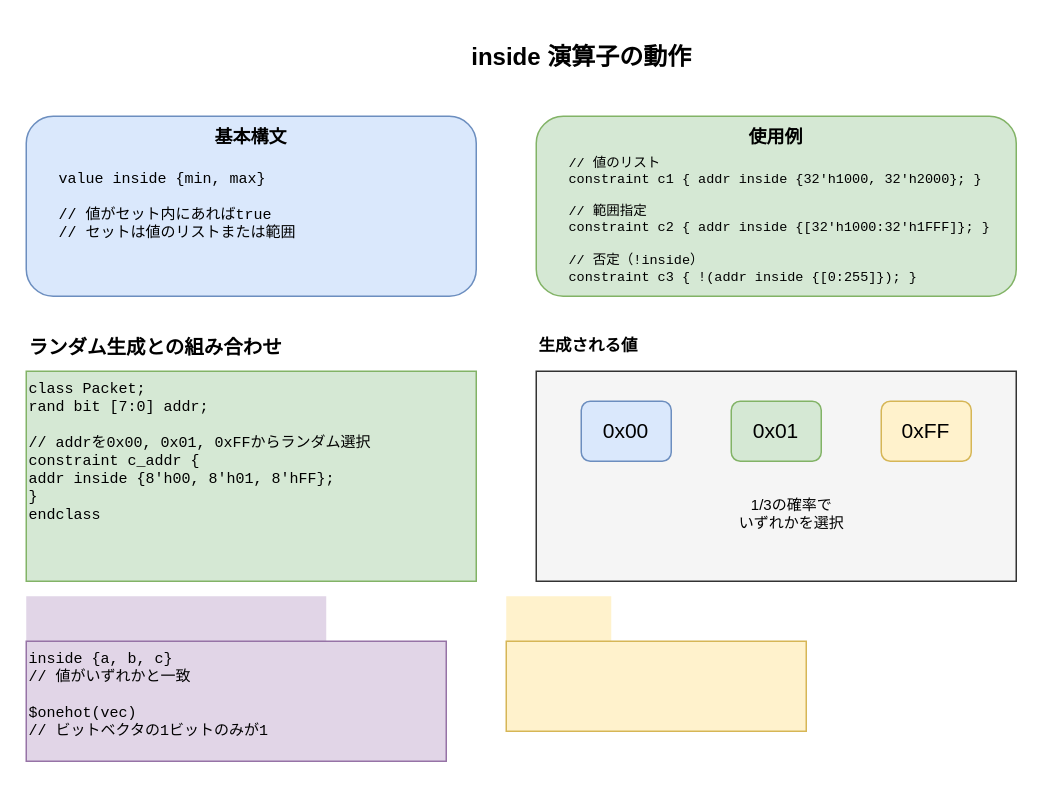
This 1043x788 diagram has some shape labels left out. Here are the shapes that lost their labels. From the top down, the centre of each, then its label:
At pixel 176 618: "$onehot/$onehot0との比較".
At pixel 558 618: "メリット".
At pixel 655 685: "• 可読性が高い • 範囲指定が可能 • 制約内で直感的に記述".
